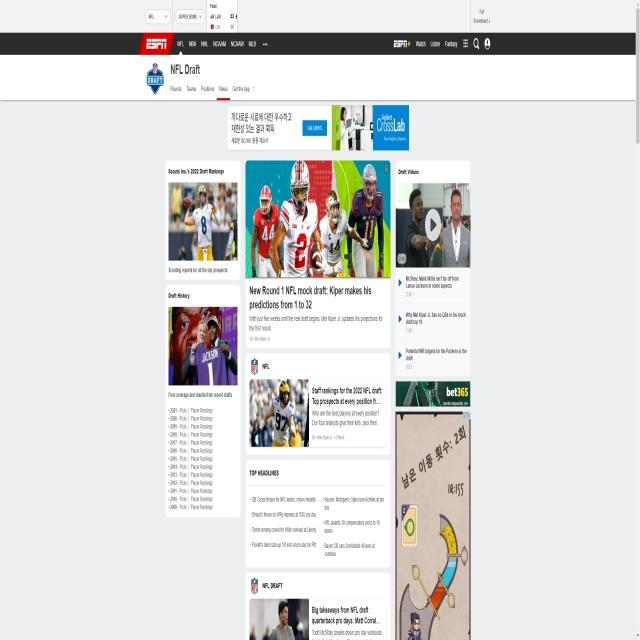menu-bar: (392, 33, 496, 55)
tab-bar: (168, 80, 258, 102), (172, 36, 270, 54)
